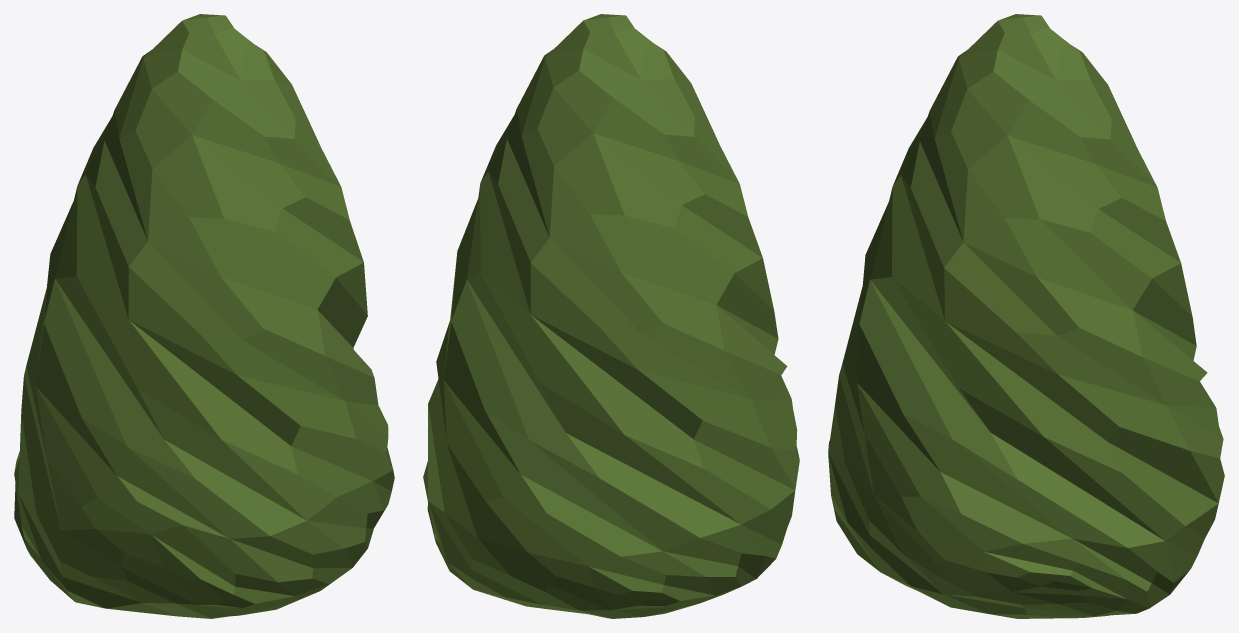
The model's file is Bush_1_1.fbx.
3 views of the same model, side by side, from view 1: azimuth 30°, elevation 25°; view 2: azimuth 150°, elevation 25°; view 3: azimuth 270°, elevation 25° (orthographic). The views are drawn at different scales.
Parts seen in each view (by area): view 1: Bush_1_1; view 2: Bush_1_1; view 3: Bush_1_1.
Part boxes in pixels (box(x1,y1,x2,y2)): Bush_1_1: box(14, 14, 394, 618); Bush_1_1: box(423, 14, 799, 618); Bush_1_1: box(828, 14, 1224, 618).
Size of the model in its own units: 70.36 by 116 by 72.37.
